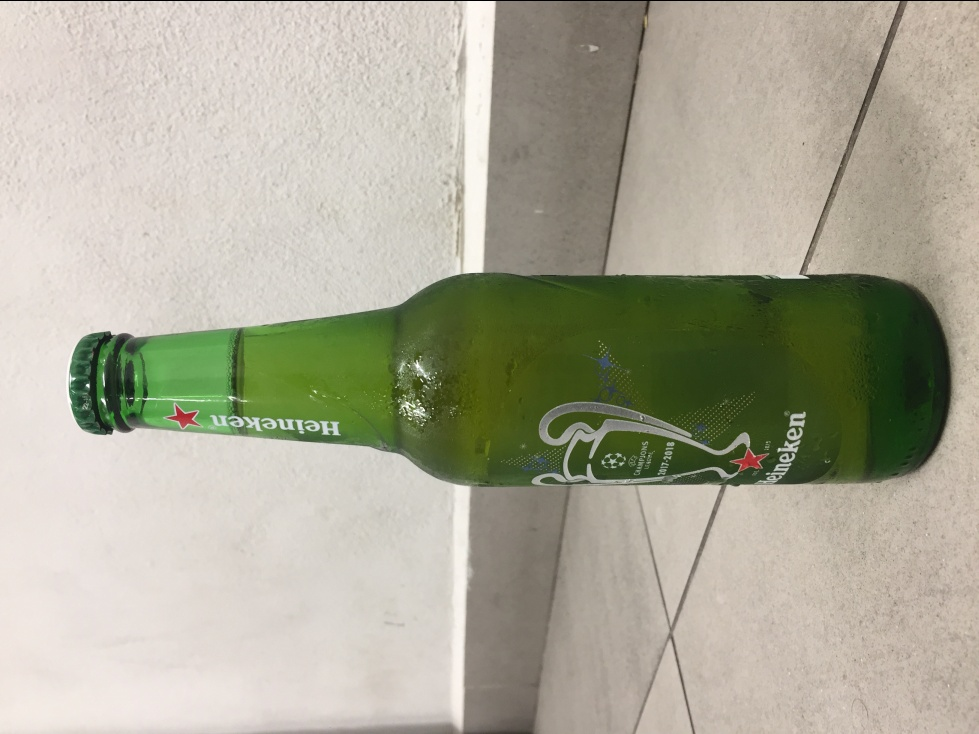heineken: (65, 270, 957, 488)
